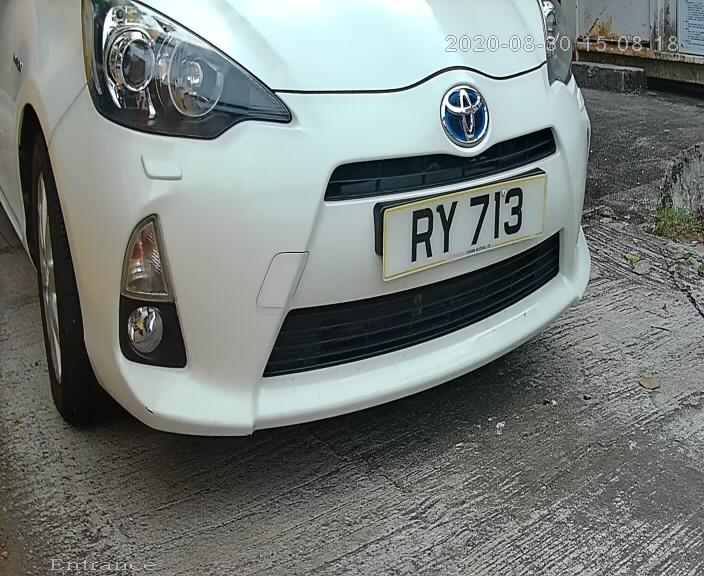License Plate: (375, 173, 541, 283)
